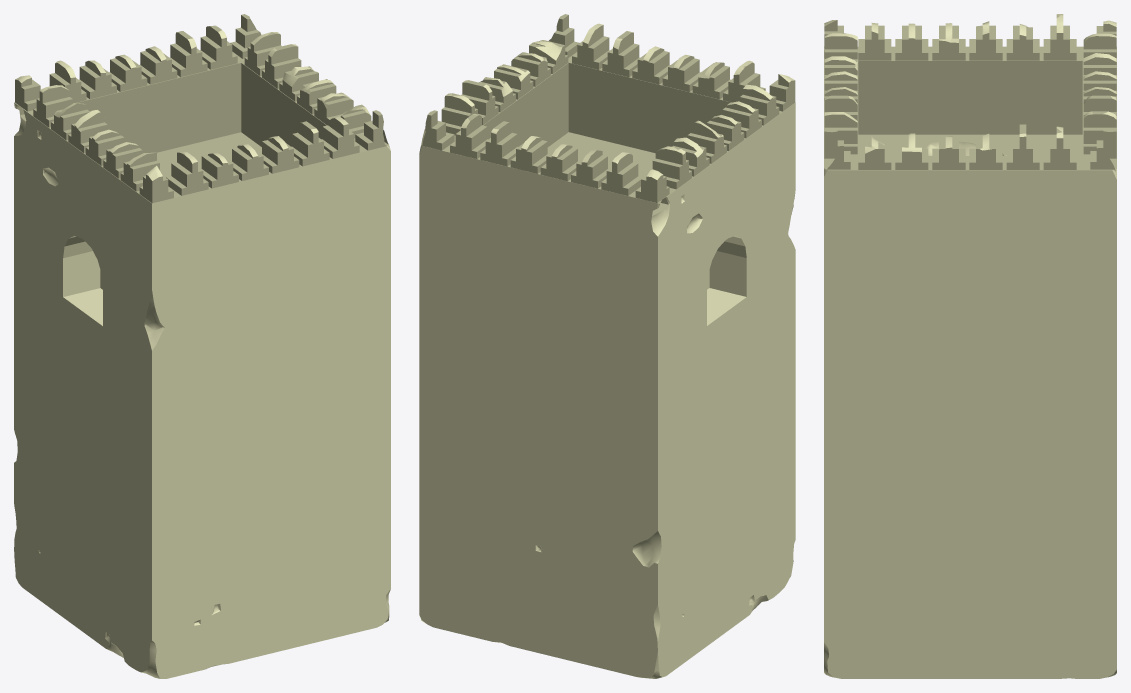
File: TorreMuralla2.fbx
The picture shows the model from 3 angles, left to right: view 1: azimuth 30°, elevation 25°; view 2: azimuth 150°, elevation 25°; view 3: azimuth 270°, elevation 25°; orthographic projection. The views are drawn at different scales.
Parts seen in each view (by area): view 1: Cube.034_dmg; view 2: Cube.034_dmg; view 3: Cube.034_dmg.
Boxes of the visible parts, left/top/right/bottom form: Cube.034_dmg: left=14, top=14, right=390, bottom=678; Cube.034_dmg: left=419, top=14, right=795, bottom=678; Cube.034_dmg: left=824, top=14, right=1116, bottom=678.
Size of the model in its own units: 395 by 809 by 395.
